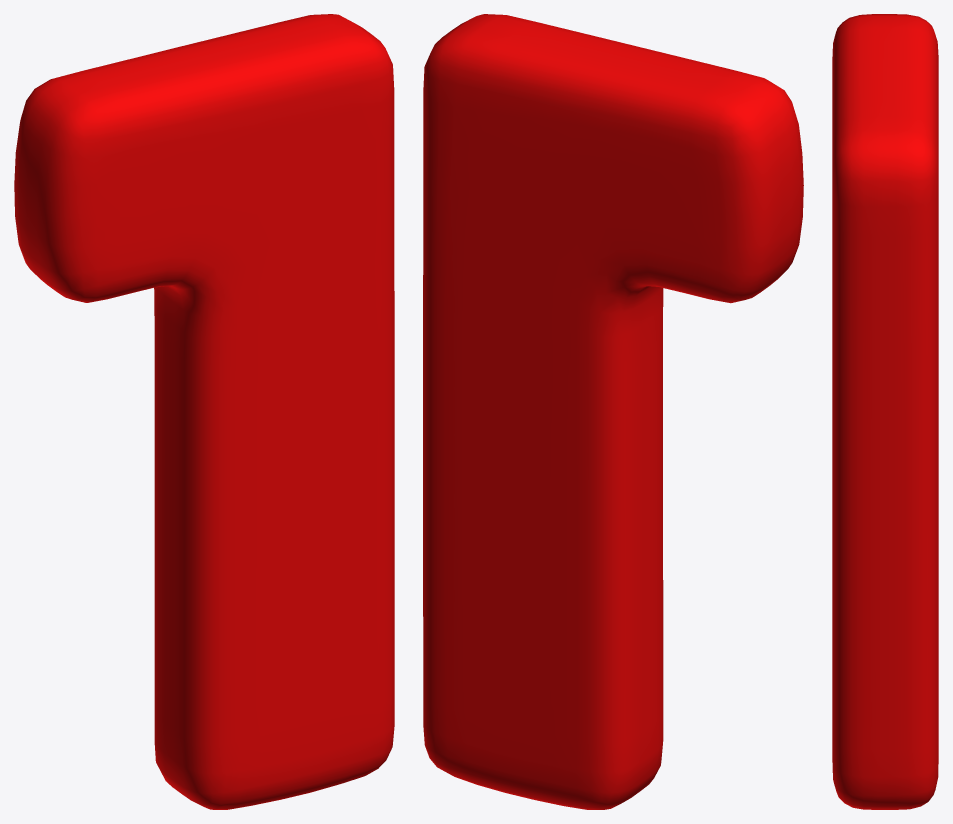
3 renders of one model, left to right at view 1: azimuth 30°, elevation 25°; view 2: azimuth 150°, elevation 25°; view 3: azimuth 270°, elevation 25°, orthographic. The views are drawn at different scales.
Visible parts, largest first — view 1: 1; view 2: 1; view 3: 1.
Part boxes in pixels (x1=…): 1: x1=14, y1=14, x2=394, y2=809; 1: x1=423, y1=14, x2=803, y2=809; 1: x1=832, y1=14, x2=938, y2=809.
Bounding box in the file's own units: 68.03 × 140 × 20.
